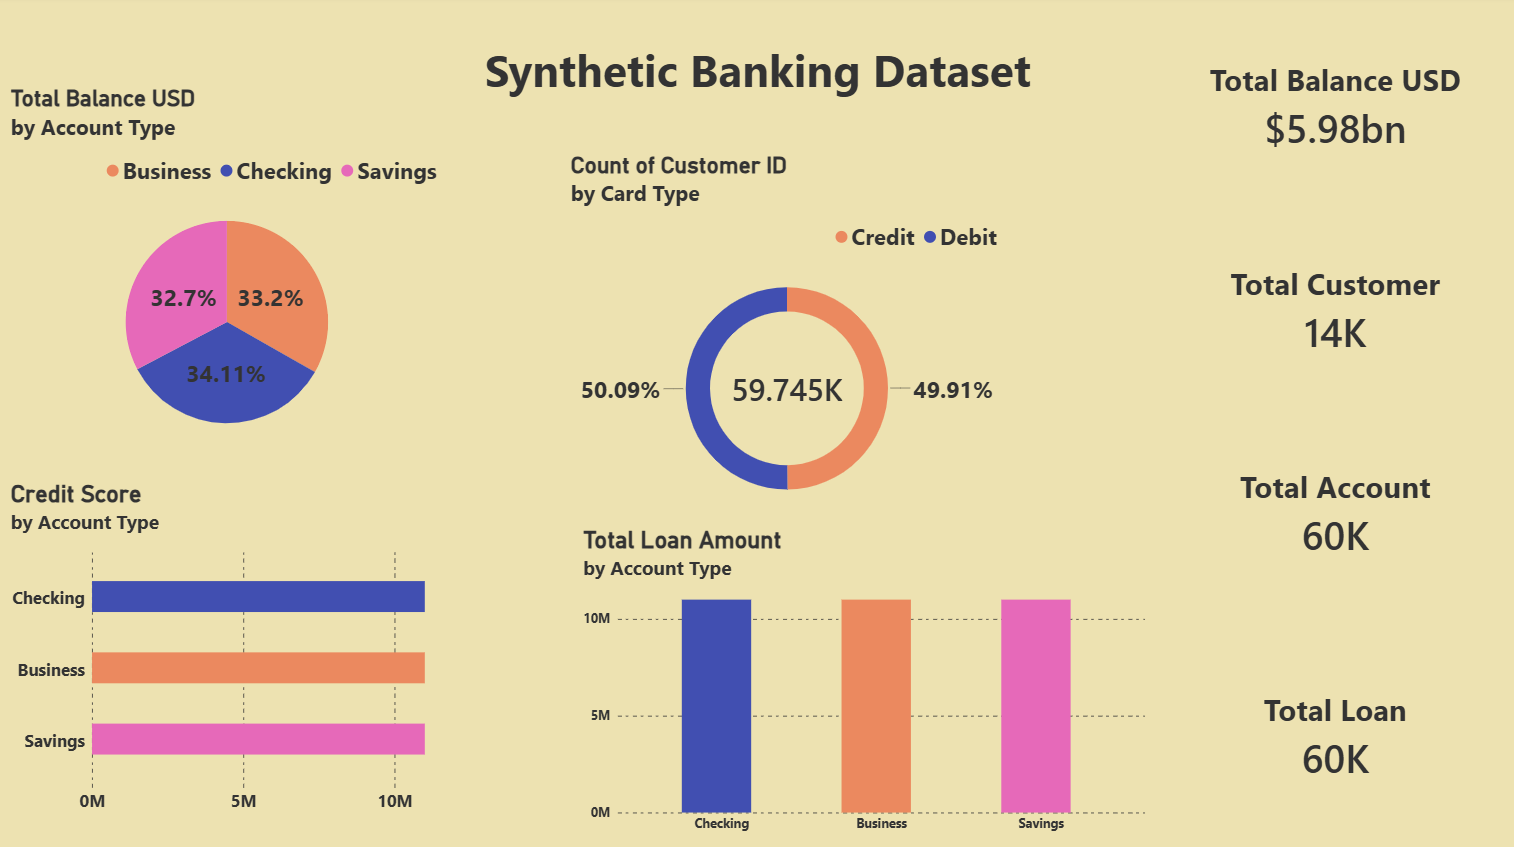

Layout of this report page (visuals, bound fields, positions):
{"tool":"powerbi","page":{"name":"Page 1","canvas":[1920,1080],"ordinal":0},"visuals":[{"type":"pieChart","fields":{"Series":["Synthetic Banking Dataset CLEAN.account_type"],"Y":["Synthetic Banking Dataset CLEAN.Total Balance USD"]},"box":[0,97.7,579.3,501.2],"z":0},{"type":"cardVisual","fields":{"Data":["Synthetic Banking Dataset CLEAN.Total Balance USD"]},"box":[1466.9,0,453,281.8],"z":1000},{"type":"textbox","box":[553.2,54.2,815.7,227.8],"z":2000},{"type":"clusteredBarChart","fields":{"Category":["Synthetic Banking Dataset CLEAN.Account Type"],"Y":["Sum(Synthetic Banking Dataset CLEAN.credit_score)"]},"box":[0,598.3,579.1,457],"z":3000},{"type":"cardVisual","fields":{"Data":["Synthetic Banking Dataset CLEAN.Total Customer"]},"box":[1466.9,258.1,453,281.8],"z":4000},{"type":"cardVisual","fields":{"Data":["Synthetic Banking Dataset CLEAN.Total Account"]},"box":[1466.9,514.5,453,281.8],"z":5000},{"type":"donutChart","fields":{"Series":["Synthetic Banking Dataset CLEAN.card_type"],"Y":["CountNonNull(Synthetic Banking Dataset CLEAN.customer_id)"]},"box":[708.1,181.4,579.3,501.2],"z":6000},{"type":"cardVisual","fields":{"Data":["Synthetic Banking Dataset CLEAN.Total Loan"]},"box":[1466.9,797.1,453,281.8],"z":7000},{"type":"clusteredColumnChart","fields":{"Category":["Synthetic Banking Dataset CLEAN.Account Type"],"Y":["Synthetic Banking Dataset CLEAN.Total Loan Amount"]},"box":[723.8,655.8,743,423.8],"z":7001}]}

Visuals, with their boxes in screenshot pixels (x1, y1, x2, y2), scaled from the page's 1920x1080 canvas onto the 1514x847 screenshot:
pieChart - Synthetic Banking Dataset CLEAN.account_type x Synthetic Banking Dataset CLEAN.Total Balance USD: crop(0, 77, 457, 470)
cardVisual - Synthetic Banking Dataset CLEAN.Total Balance USD: crop(1157, 0, 1513, 221)
textbox: crop(436, 43, 1079, 221)
clusteredBarChart - Synthetic Banking Dataset CLEAN.Account Type x Sum(Synthetic Banking Dataset CLEAN.credit_score): crop(0, 469, 457, 828)
cardVisual - Synthetic Banking Dataset CLEAN.Total Customer: crop(1157, 202, 1513, 423)
cardVisual - Synthetic Banking Dataset CLEAN.Total Account: crop(1157, 404, 1513, 625)
donutChart - Synthetic Banking Dataset CLEAN.card_type x CountNonNull(Synthetic Banking Dataset CLEAN.customer_id): crop(558, 142, 1015, 535)
cardVisual - Synthetic Banking Dataset CLEAN.Total Loan: crop(1157, 625, 1513, 846)
clusteredColumnChart - Synthetic Banking Dataset CLEAN.Account Type x Synthetic Banking Dataset CLEAN.Total Loan Amount: crop(571, 514, 1157, 846)
